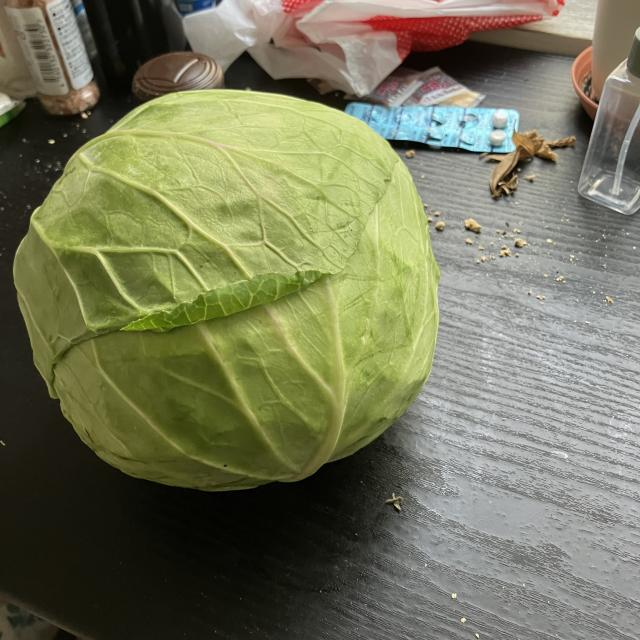cabbage: (11, 85, 444, 496)
